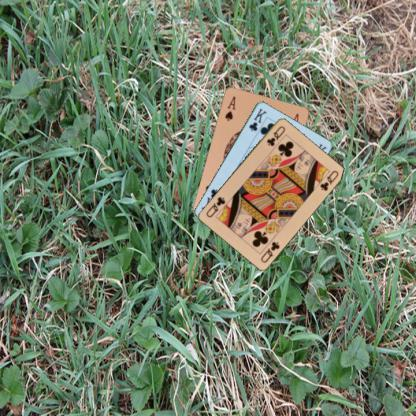As: (222, 94, 236, 122)
Kc: (246, 106, 268, 132)
Qc: (258, 239, 281, 264), (264, 123, 287, 147)
